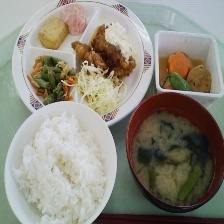rice: (16, 111, 111, 224)
